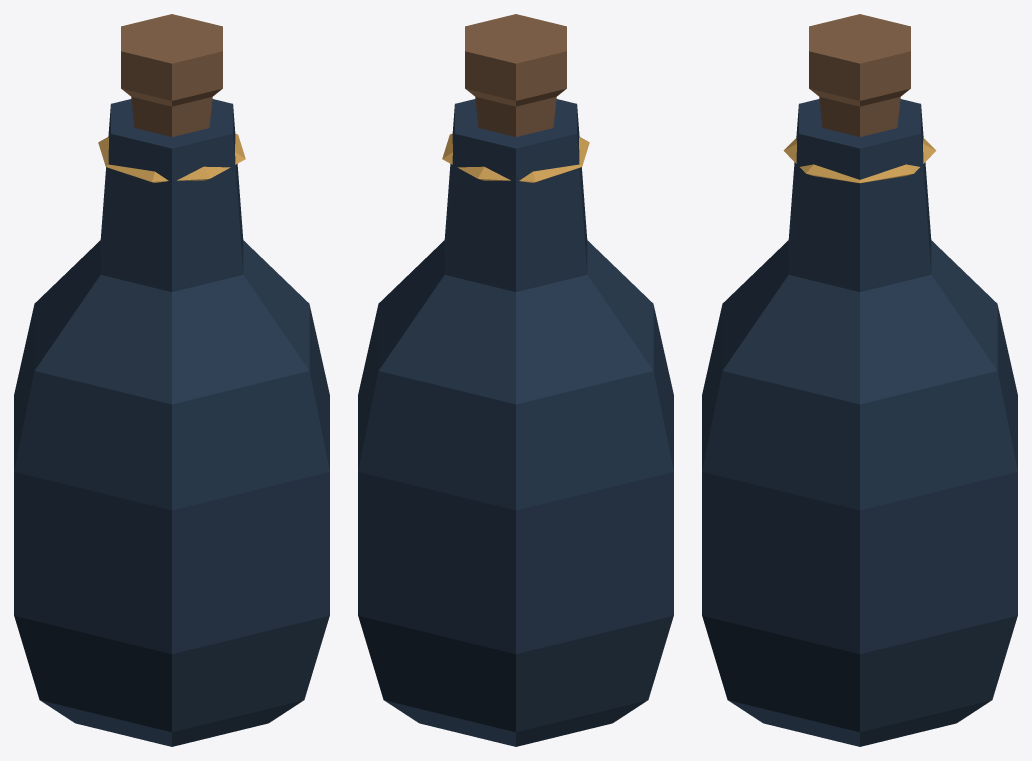
Rendered from magic_vial.glb.
3 views of the same model, side by side, from view 1: azimuth 30°, elevation 25°; view 2: azimuth 150°, elevation 25°; view 3: azimuth 270°, elevation 25° (orthographic).
Visible parts, largest first — view 1: SM_Magic_SmallBottle; view 2: SM_Magic_SmallBottle; view 3: SM_Magic_SmallBottle.
Boxes of the visible parts, x1,y1,x2,y2 form: SM_Magic_SmallBottle: (14,14,329,746); SM_Magic_SmallBottle: (358,14,673,746); SM_Magic_SmallBottle: (702,14,1017,746).
Bounding box in the file's own units: 0.062 × 0.124 × 0.0537.
3 materials, 3 textured.
